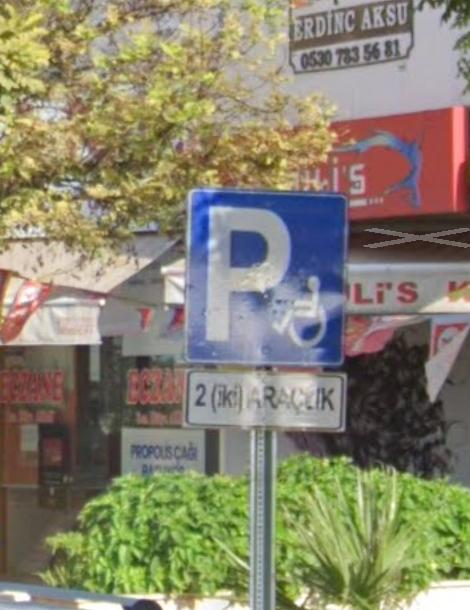disabledpark: (194, 192, 338, 360)
